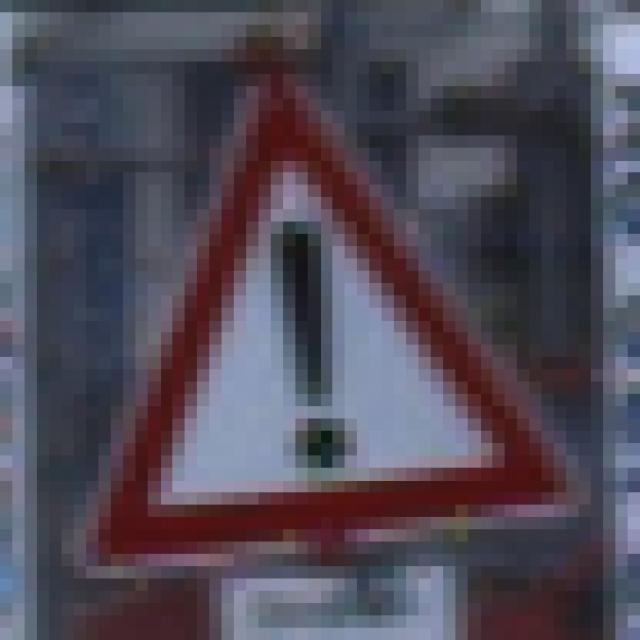Attention Please-: (62, 62, 590, 566)
